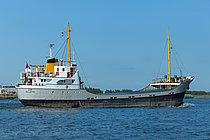Ship: (9, 18, 197, 112)
